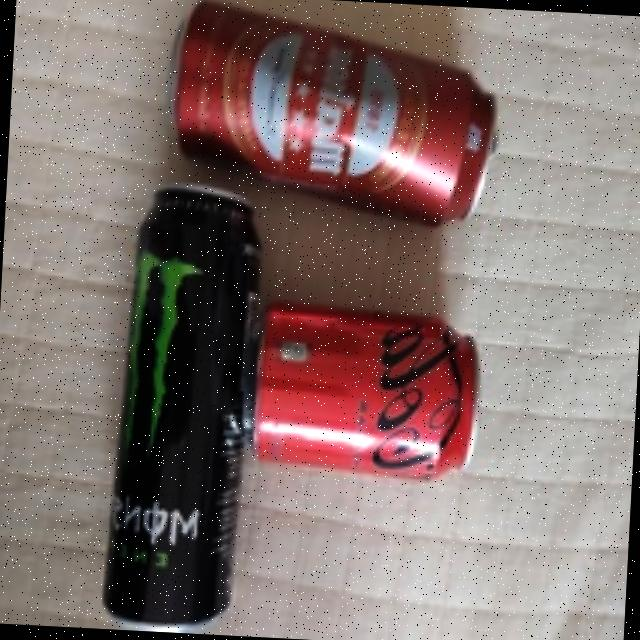Metal: (161, 0, 509, 230), (98, 174, 270, 636), (251, 300, 480, 486)
